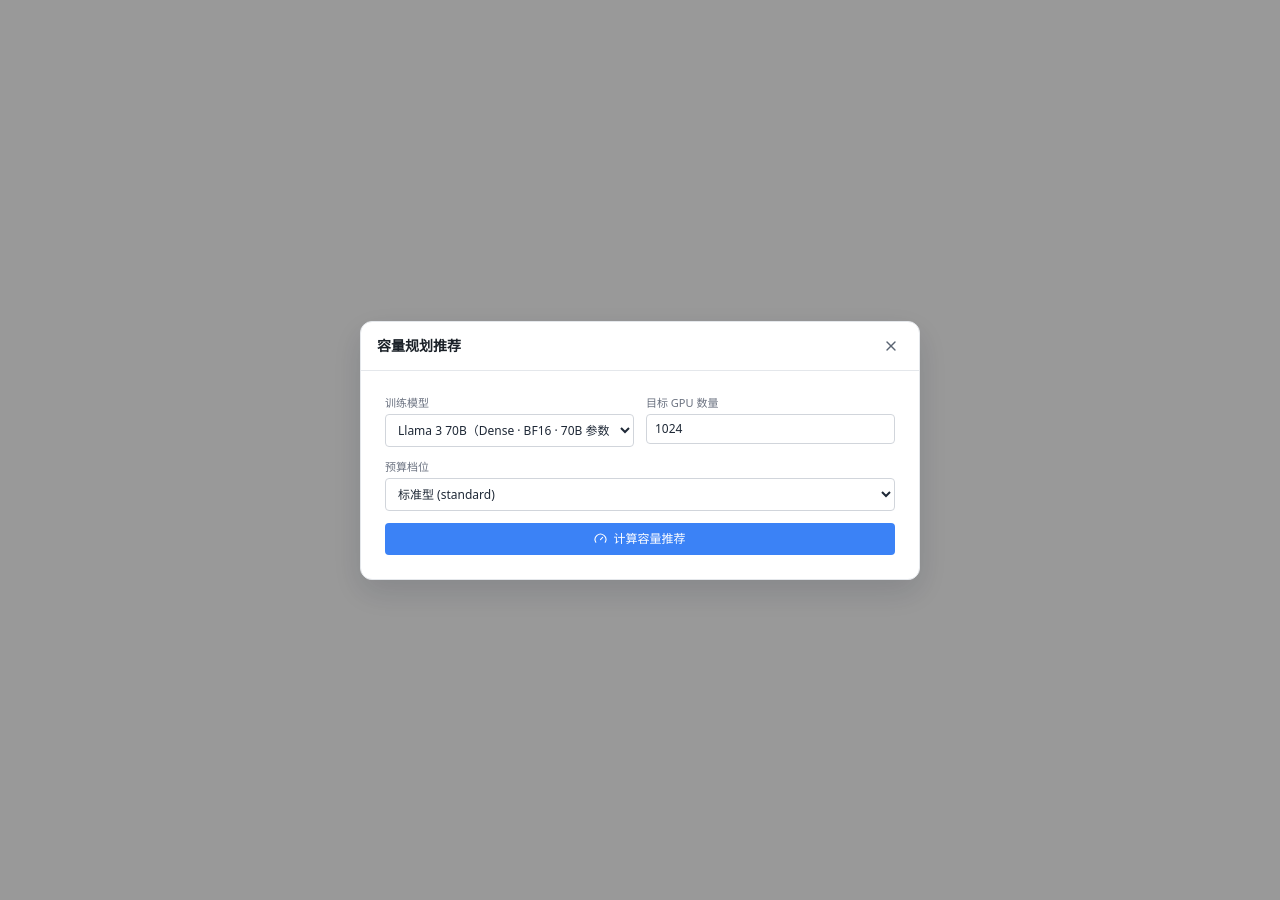
Test: CapacityRecommendModal › 推荐失败 → 显示错误
The image size is (1280, 900).
Click the button "计算容量推荐". click: (640, 538)
box: [385, 522, 895, 554]
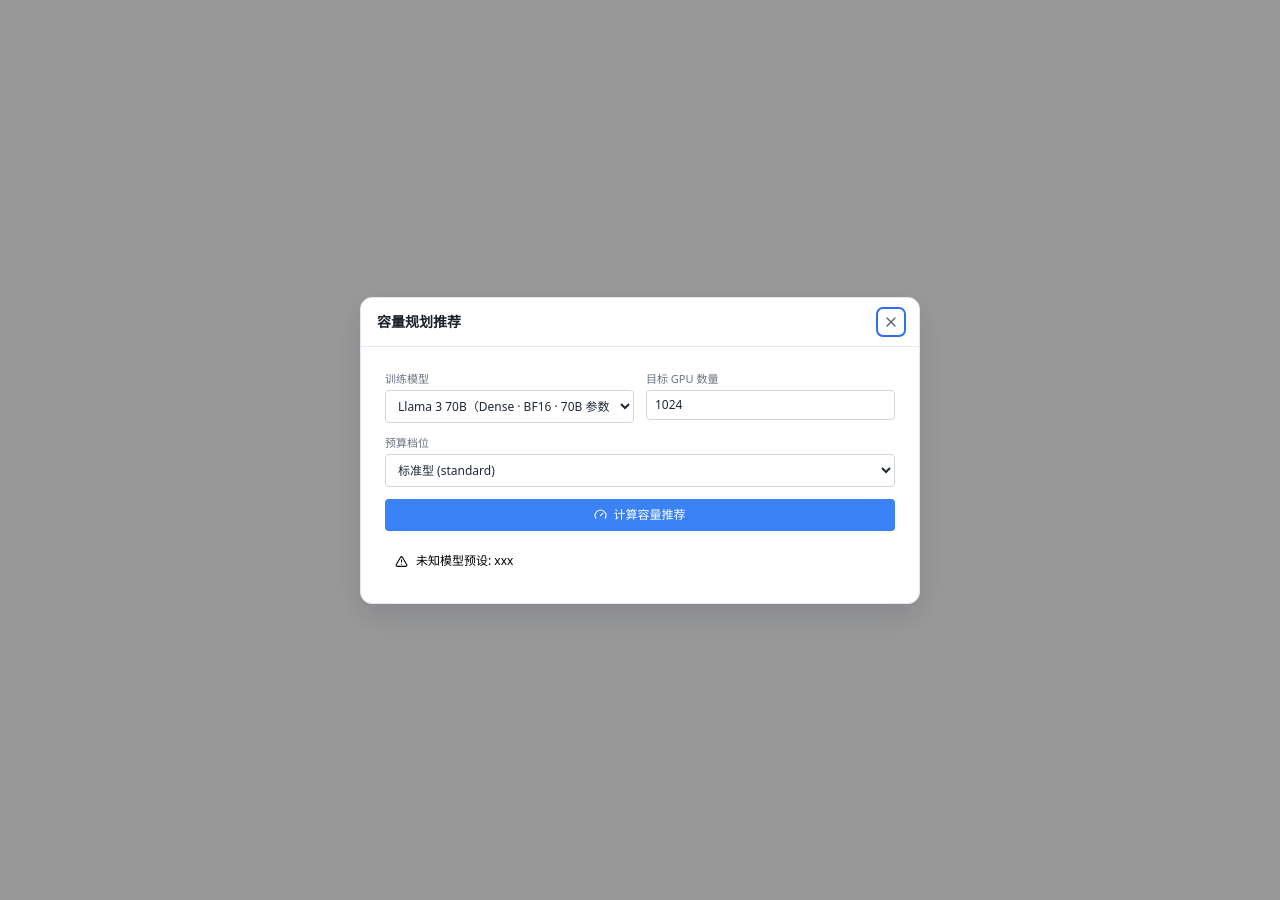
Expected: the text "未知模型预设: xxx" is shown, [416, 552, 513, 568]
